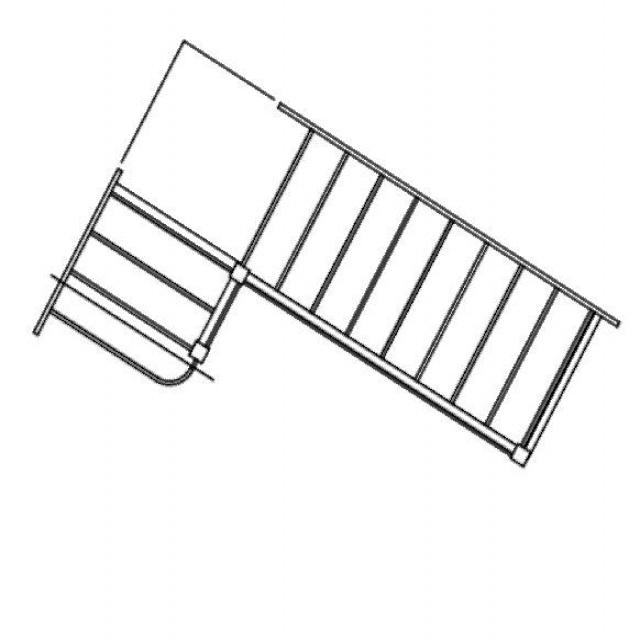stair: (33, 36, 622, 502)
